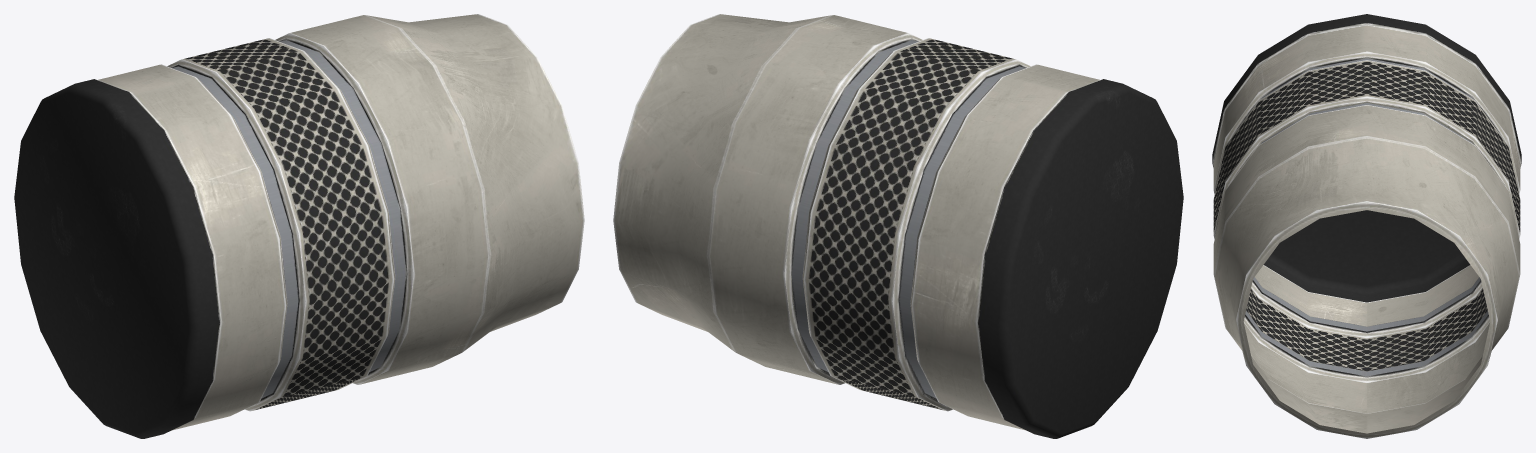
The model's file is pommel_15_c_d.glb.
3 views of the same model, side by side, from view 1: azimuth 30°, elevation 25°; view 2: azimuth 150°, elevation 25°; view 3: azimuth 270°, elevation 25° (orthographic). The views are drawn at different scales.
Parts seen in each view (by area): view 1: pommel_15_c_d_lod0; view 2: pommel_15_c_d_lod0; view 3: pommel_15_c_d_lod0.
Part boxes in pixels (bbox=[...]): pommel_15_c_d_lod0: bbox=[14, 14, 584, 438]; pommel_15_c_d_lod0: bbox=[613, 14, 1183, 438]; pommel_15_c_d_lod0: bbox=[1212, 14, 1521, 438].
Size of what is drawn, in the model's own units: 0.0465 by 0.0357 by 0.0357.
1 material, 1 textured.
